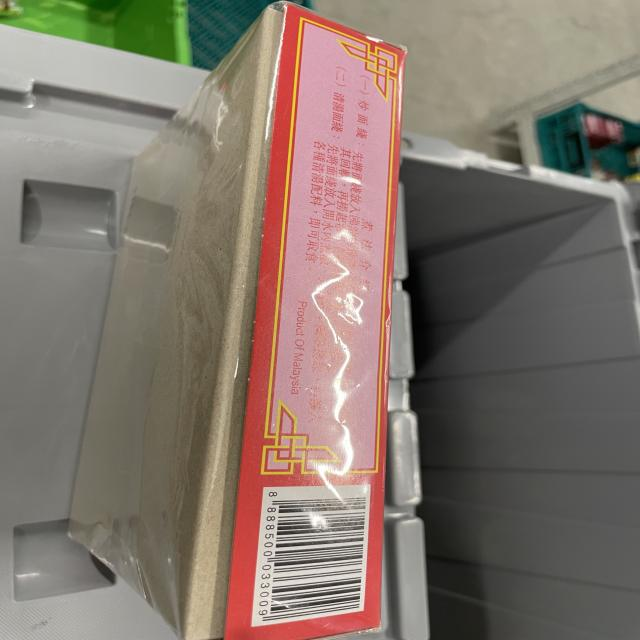object_name: (109, 14, 387, 628)
